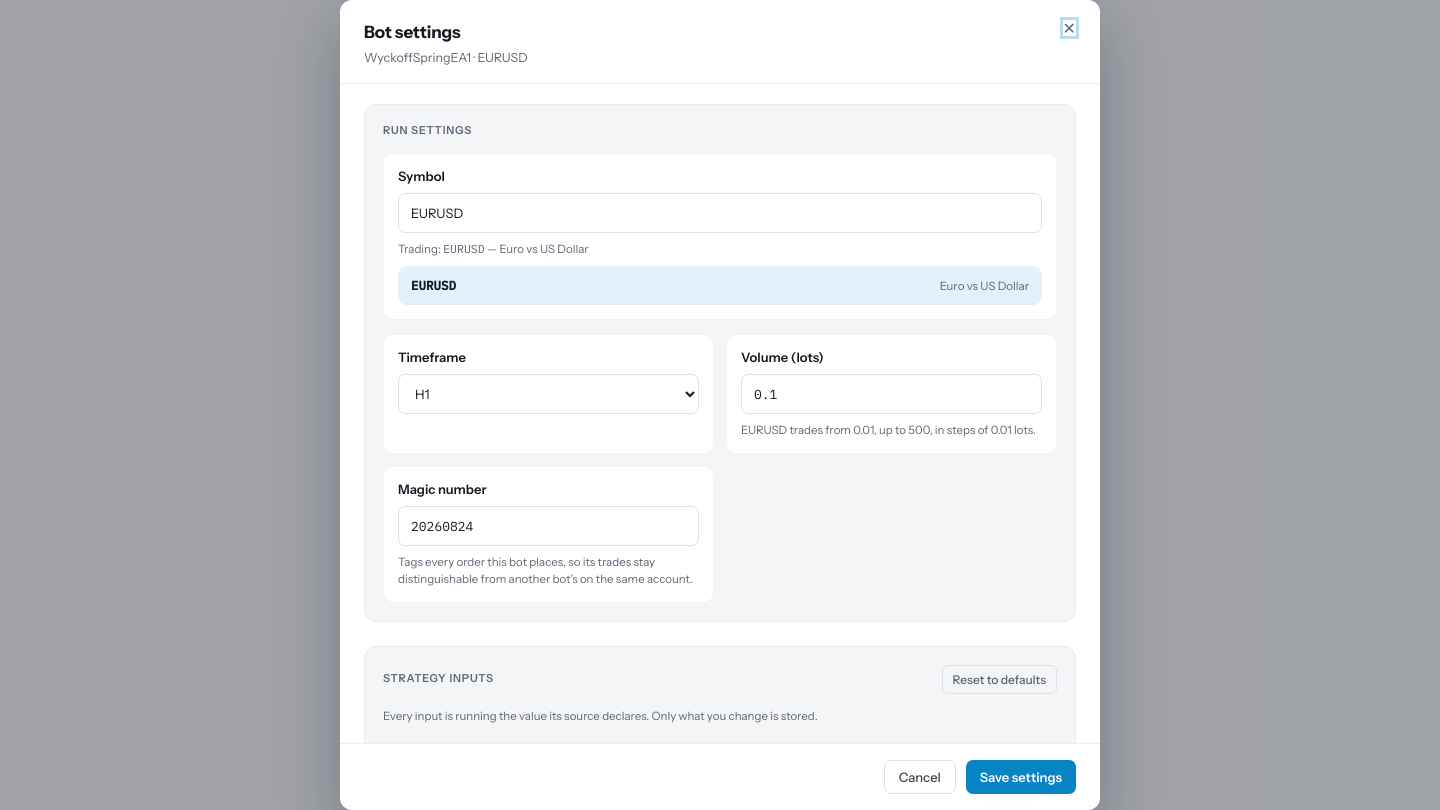
bot settings panel › refuses to save a volume below the broker minimum
expect the text "Euro vs US Dollar" is shown: met, box [940, 279, 1029, 293]
Step 1. Replace the text in the number field labelled "Volume (lots)" with "0.005" → (892, 394), box [741, 374, 1042, 414]
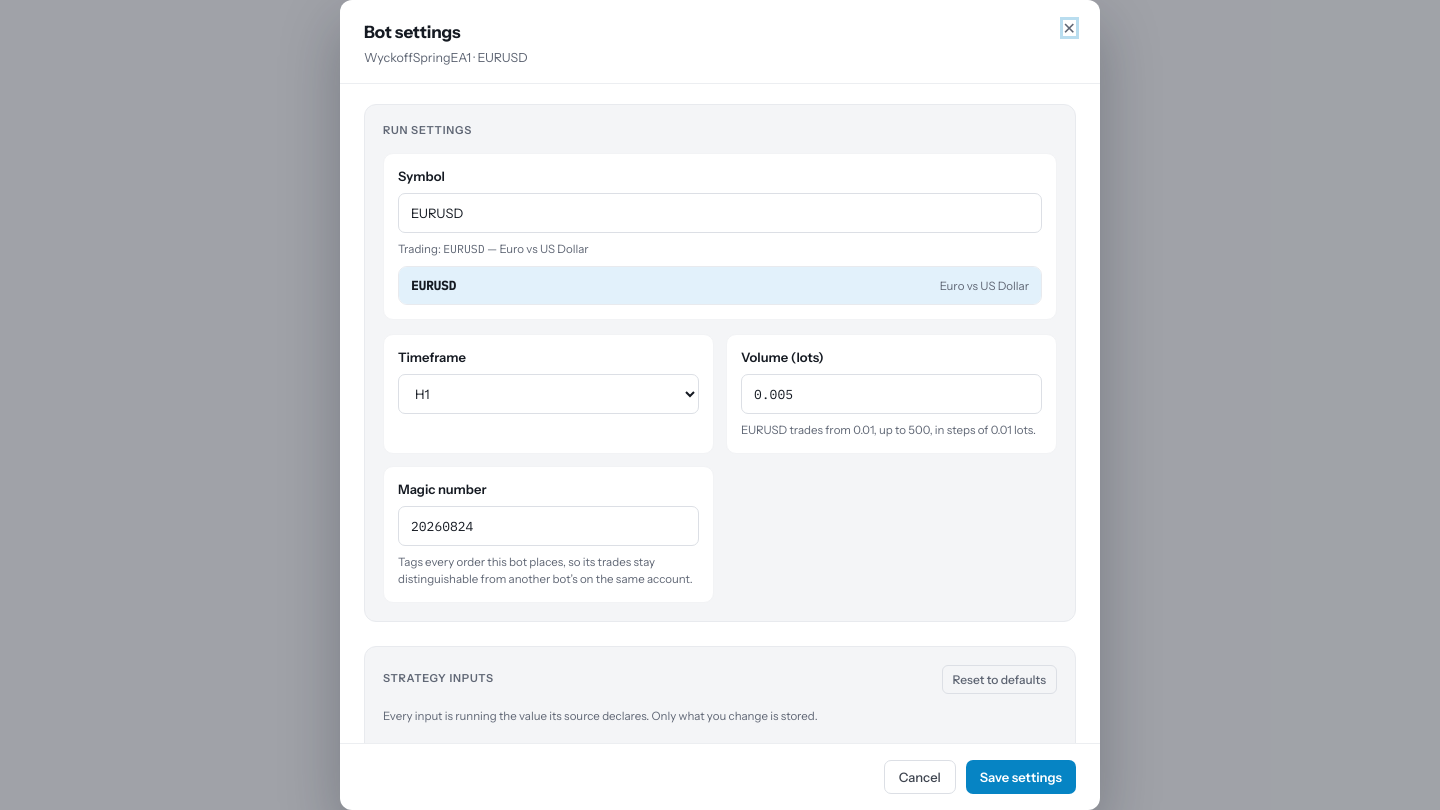
Step 2. Click the button "Save settings" → click(1021, 777), box [966, 760, 1076, 794]
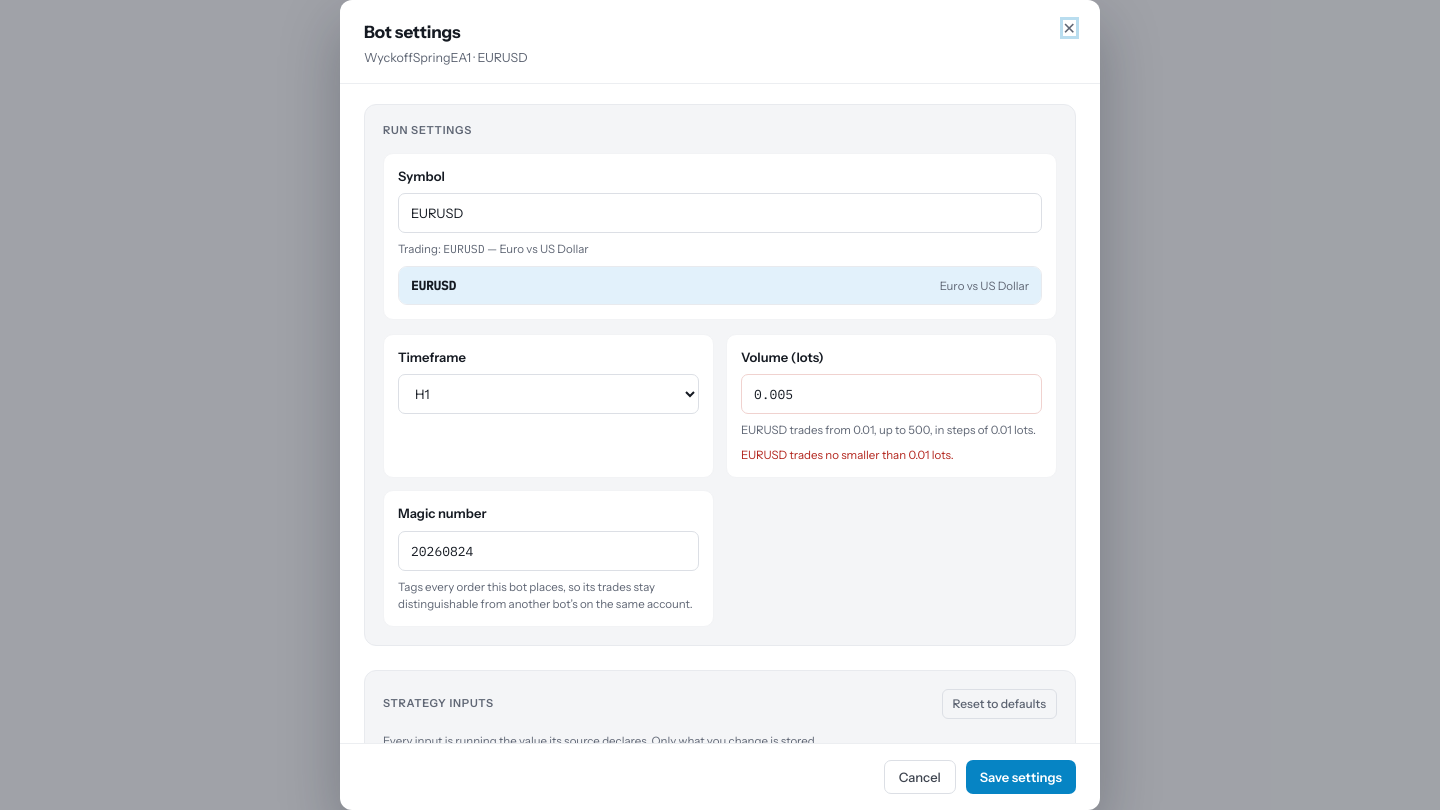
expect the text "EURUSD trades no smaller than 0.01 lots." is shown: met, box [741, 448, 954, 462]
